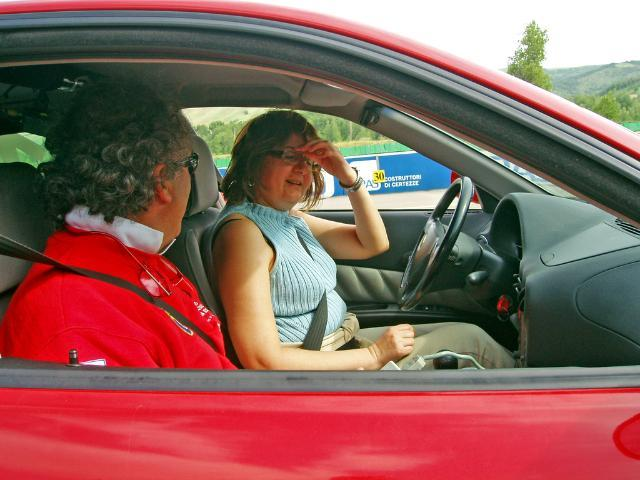SafeDriving: (266, 143, 302, 164)
Seatbelt: (0, 233, 224, 355), (1, 234, 220, 354), (213, 164, 329, 350)
